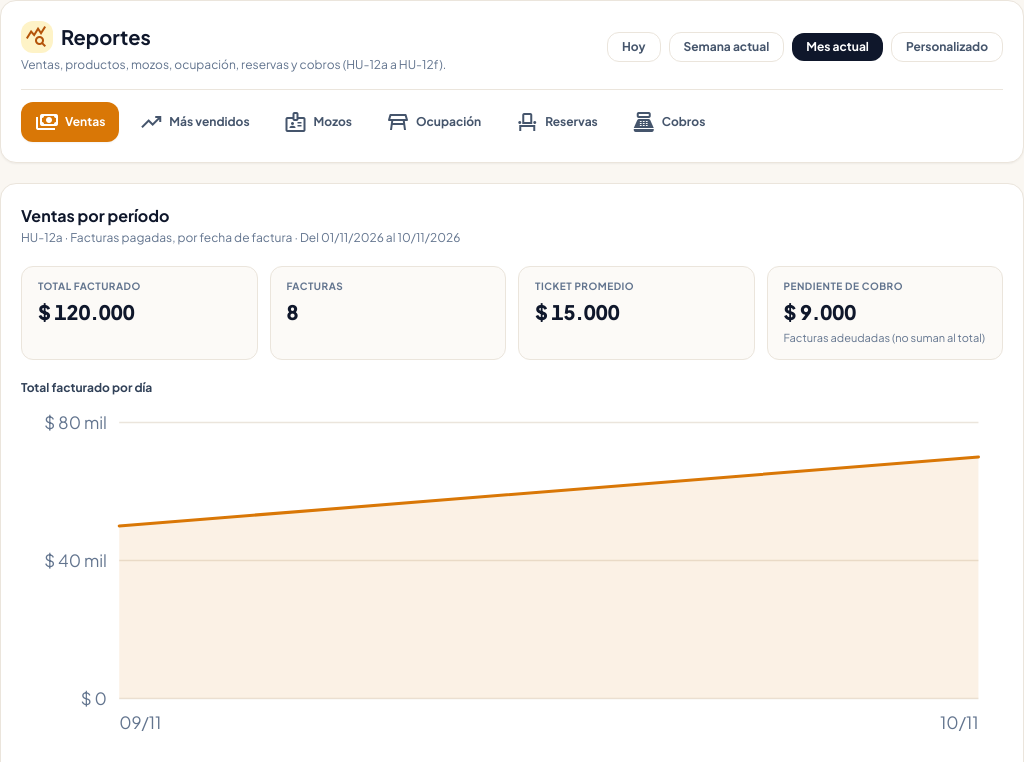
Test: ReportesPage › HU-12a CA3 y CA4: período personalizado e inválido
Expected: the text "$ 120.000" is shown, top-left (38, 299), bottom-right (135, 324)
Click the button "Personalizado" at (947, 47), box top-left (891, 32), bottom-right (1003, 62)
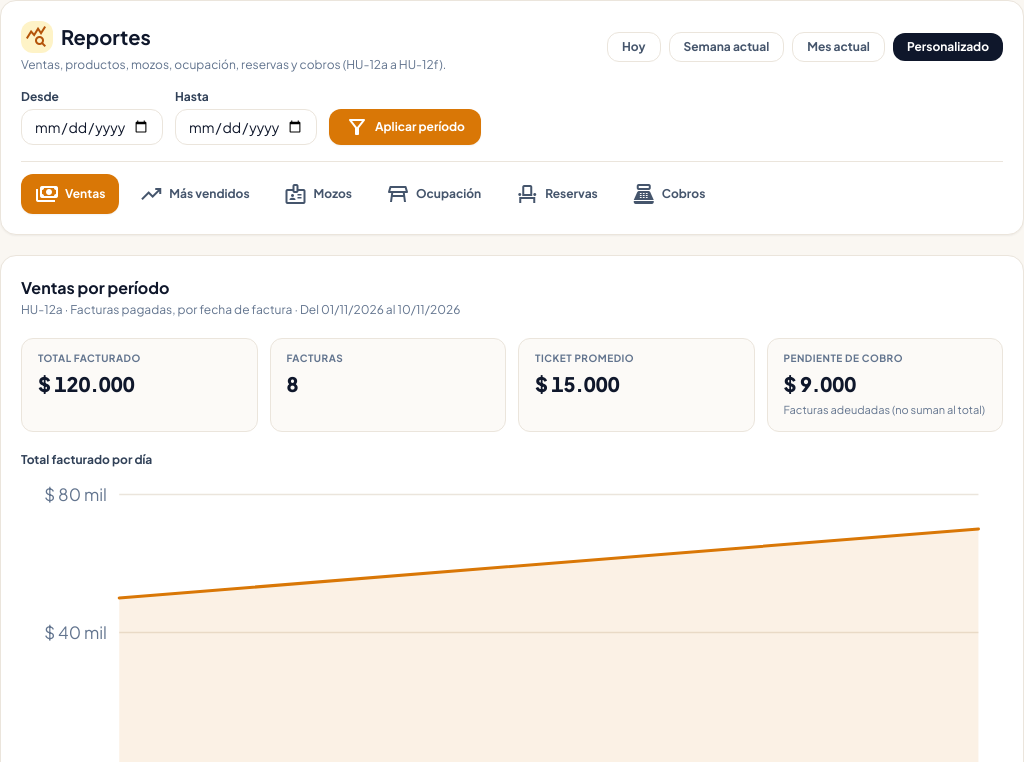
Type "2026-11-08" into the date field labelled "Desde" at (92, 127), box top-left (21, 109), bottom-right (163, 145)
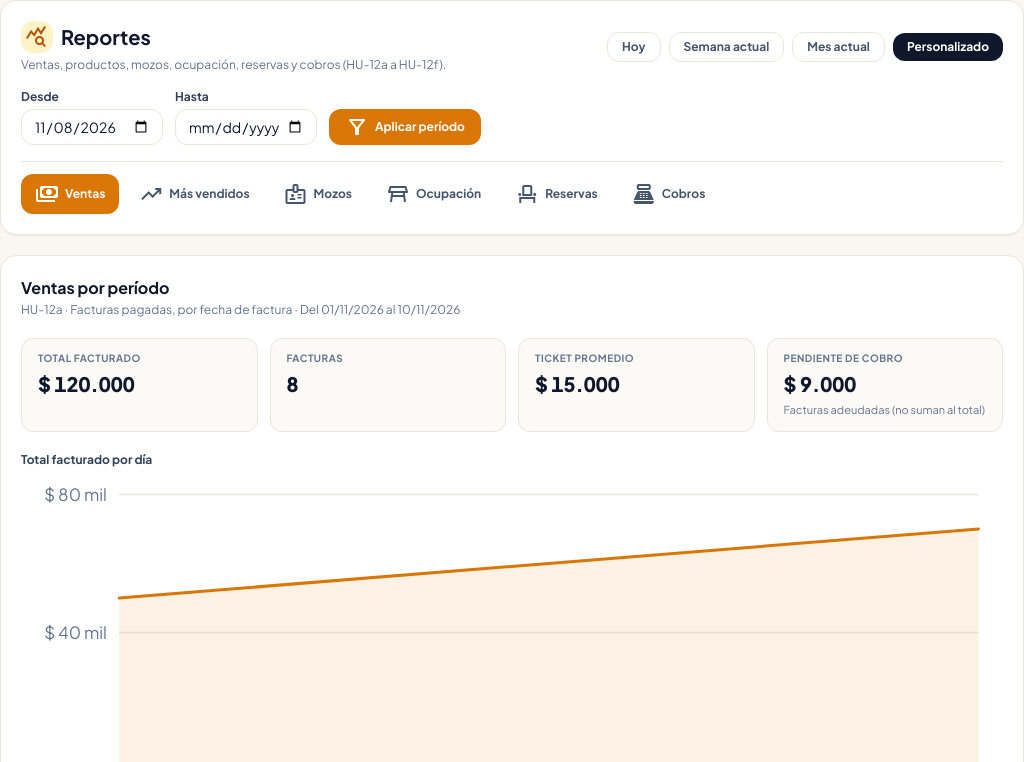
Type "2026-11-01" into the date field labelled "Hasta" at (246, 127), box top-left (175, 109), bottom-right (317, 145)
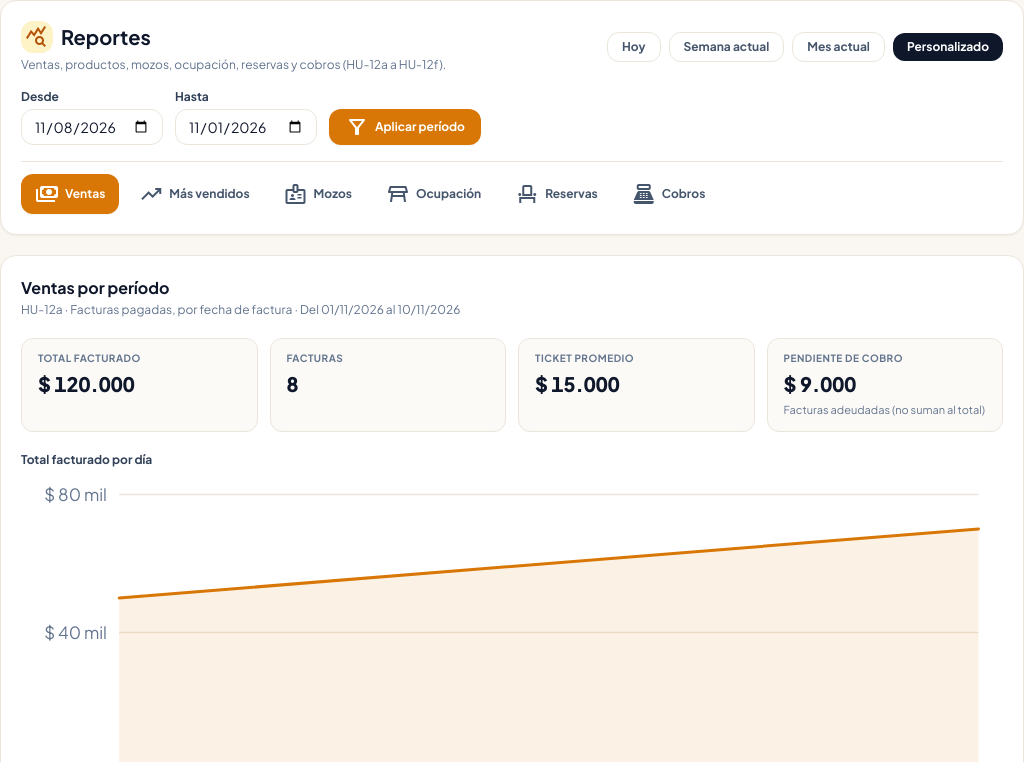
Click the button "Aplicar período" at (405, 127), box top-left (329, 109), bottom-right (481, 145)
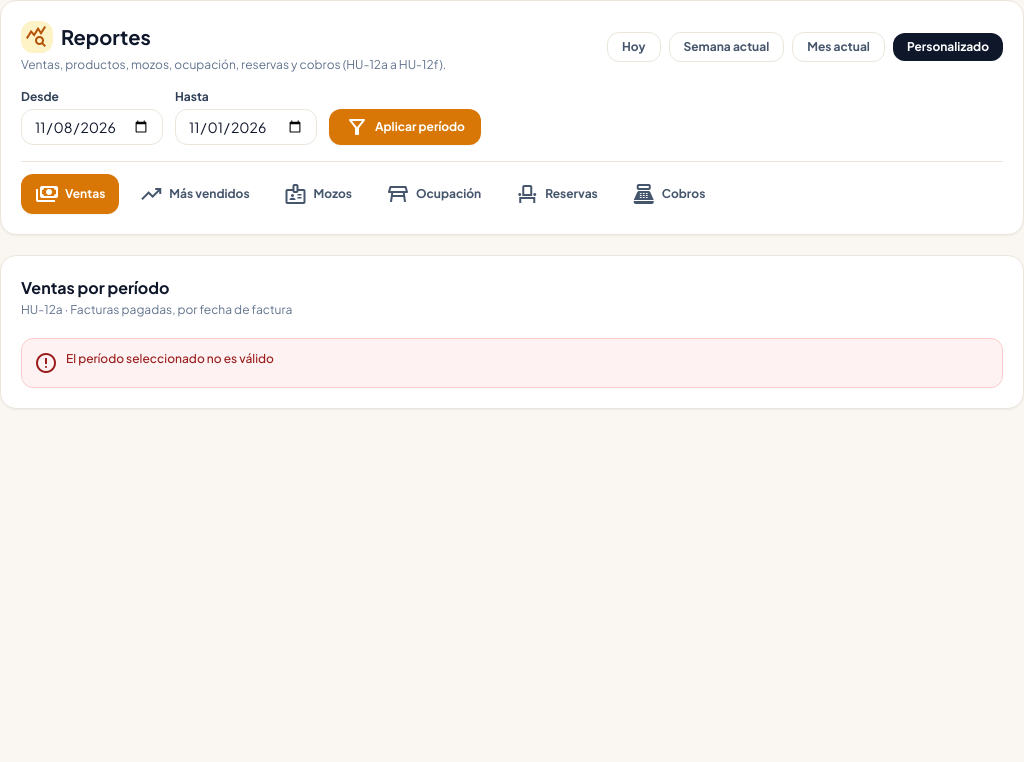
Now the text "El período seleccionado no es válido" is shown, box top-left (66, 351), bottom-right (274, 366)
